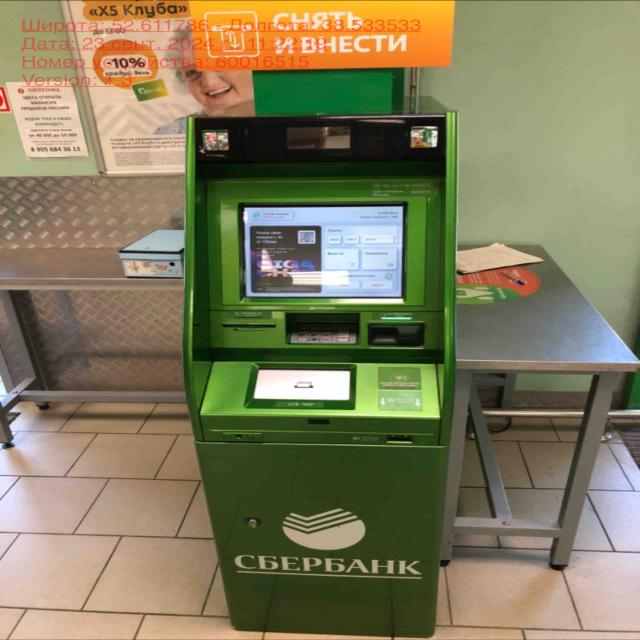bank: (183, 0, 462, 634)
